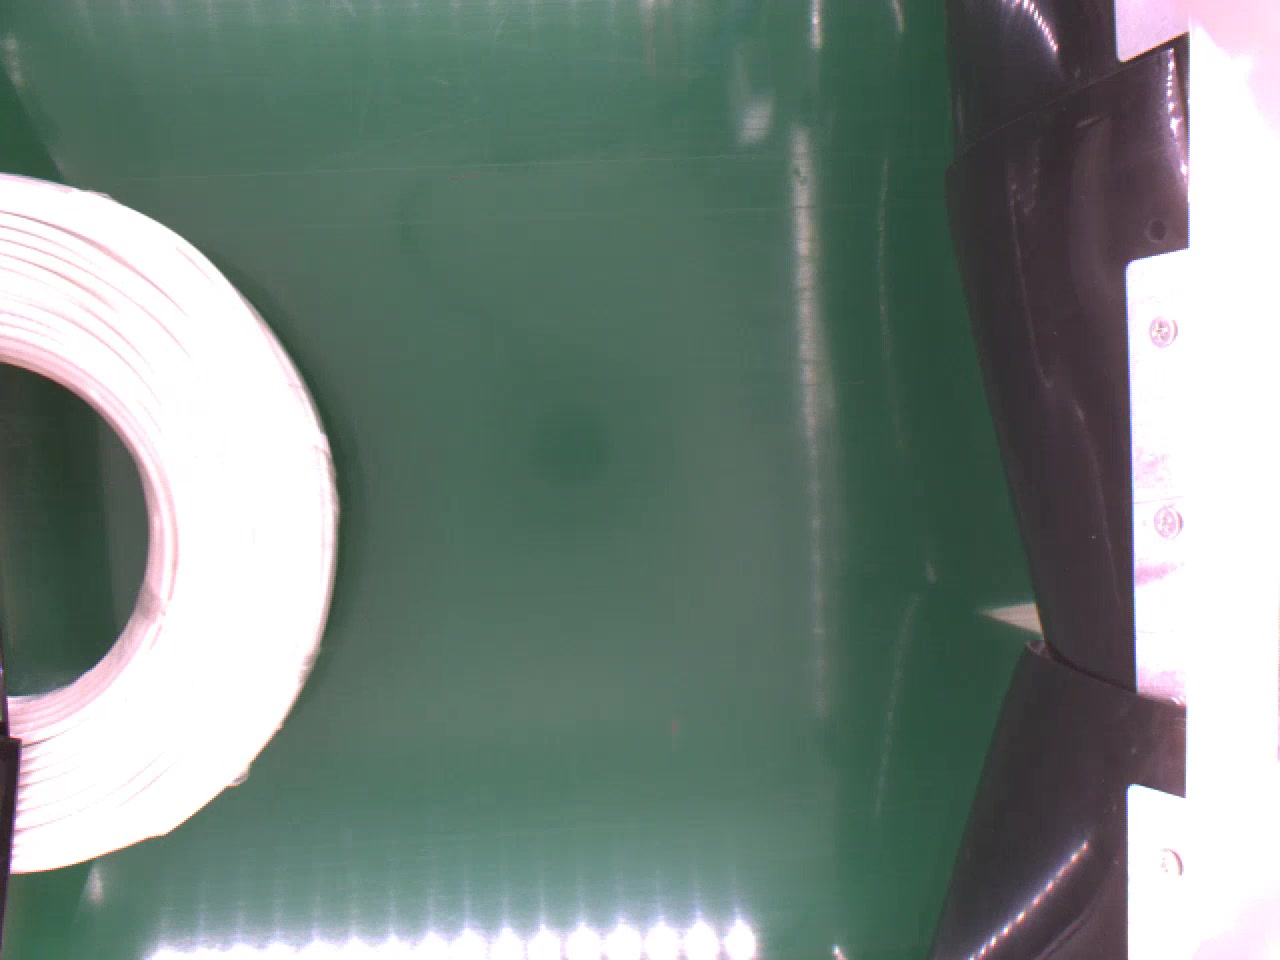white: (0, 170, 342, 873)
